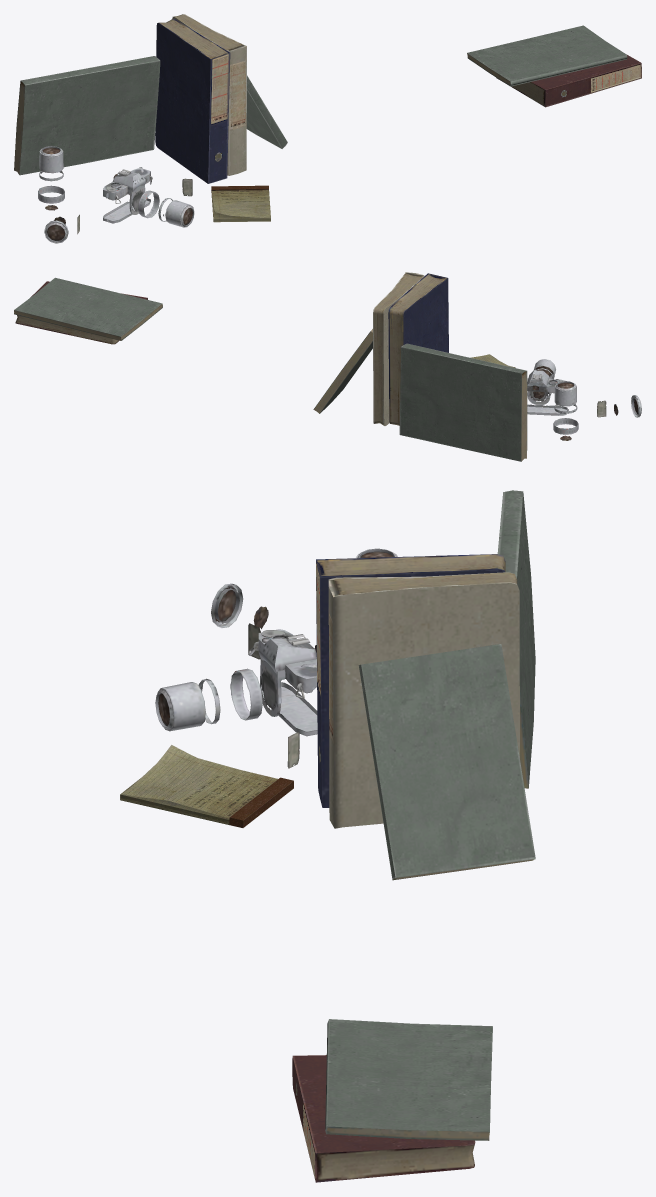
The model's file is sm39_025_reflexcameraset01a.fbx.
The picture shows the model from 3 angles, top to bottom: view 1: azimuth 30°, elevation 25°; view 2: azimuth 150°, elevation 25°; view 3: azimuth 270°, elevation 25°; orthographic projection. The views are drawn at different scales.
Visible parts, largest first — view 1: LOD_1_Group_3_Sub_1__sm36_007_PaperWork01A_A_Mat1, LOD_1_Group_4_Sub_1__sm36_007_PaperWork01A_A_Mat1, LOD_1_Group_8_Sub_2__sm36_007_PaperWork01A_A_Mat1, LOD_1_Group_7_Sub_2__sm36_007_PaperWork01A_A_Mat1, LOD_1_Group_9_Sub_1__sm36_007_PaperWork01A_A_Mat1, LOD_1_Group_0_Sub_1__sm36_013_Notepad01A_A_Mat, LOD_1_Group_5_Sub_1__sm39_025_ReflexCameraSet01A_A_Mat, LOD_1_Group_6_Sub_2__sm36_007_PaperWork01A_A_Mat1, LOD_1_Group_16_Sub_1__sm39_025_ReflexCameraSet01A_A_Mat, LOD_1_Group_6_Sub_1__sm39_025_ReflexCameraSet01A_A_Mat, LOD_1_Group_14_Sub_1__sm39_025_ReflexCameraSet01A_A_Mat; view 2: LOD_1_Group_3_Sub_1__sm36_007_PaperWork01A_A_Mat1, LOD_1_Group_8_Sub_2__sm36_007_PaperWork01A_A_Mat1, LOD_1_Group_4_Sub_1__sm36_007_PaperWork01A_A_Mat1, LOD_1_Group_7_Sub_2__sm36_007_PaperWork01A_A_Mat1, LOD_1_Group_5_Sub_1__sm39_025_ReflexCameraSet01A_A_Mat, LOD_1_Group_6_Sub_2__sm36_007_PaperWork01A_A_Mat1, LOD_1_Group_16_Sub_1__sm39_025_ReflexCameraSet01A_A_Mat, LOD_1_Group_9_Sub_1__sm36_007_PaperWork01A_A_Mat1, LOD_1_Group_6_Sub_1__sm39_025_ReflexCameraSet01A_A_Mat; view 3: LOD_1_Group_6_Sub_2__sm36_007_PaperWork01A_A_Mat1, LOD_1_Group_7_Sub_2__sm36_007_PaperWork01A_A_Mat1, LOD_1_Group_8_Sub_2__sm36_007_PaperWork01A_A_Mat1, LOD_1_Group_9_Sub_1__sm36_007_PaperWork01A_A_Mat1, LOD_1_Group_0_Sub_1__sm36_013_Notepad01A_A_Mat, LOD_1_Group_4_Sub_1__sm36_007_PaperWork01A_A_Mat1, LOD_1_Group_3_Sub_1__sm36_007_PaperWork01A_A_Mat1, LOD_1_Group_5_Sub_1__sm39_025_ReflexCameraSet01A_A_Mat, LOD_1_Group_6_Sub_1__sm39_025_ReflexCameraSet01A_A_Mat, LOD_1_Group_14_Sub_1__sm39_025_ReflexCameraSet01A_A_Mat.
Boxes of the visible parts, x1,y1,x2,y2 form: LOD_1_Group_3_Sub_1__sm36_007_PaperWork01A_A_Mat1: (14,56,160,175); LOD_1_Group_4_Sub_1__sm36_007_PaperWork01A_A_Mat1: (155,19,230,183); LOD_1_Group_8_Sub_2__sm36_007_PaperWork01A_A_Mat1: (467,25,627,86); LOD_1_Group_7_Sub_2__sm36_007_PaperWork01A_A_Mat1: (172,14,246,175); LOD_1_Group_9_Sub_1__sm36_007_PaperWork01A_A_Mat1: (496,55,641,107); LOD_1_Group_0_Sub_1__sm36_013_Notepad01A_A_Mat: (211,185,270,222); LOD_1_Group_5_Sub_1__sm39_025_ReflexCameraSet01A_A_Mat: (103,167,152,223); LOD_1_Group_6_Sub_2__sm36_007_PaperWork01A_A_Mat1: (246,75,287,148); LOD_1_Group_16_Sub_1__sm39_025_ReflexCameraSet01A_A_Mat: (38,146,64,210); LOD_1_Group_6_Sub_1__sm39_025_ReflexCameraSet01A_A_Mat: (138,190,194,227); LOD_1_Group_14_Sub_1__sm39_025_ReflexCameraSet01A_A_Mat: (44,216,68,243); LOD_1_Group_3_Sub_1__sm36_007_PaperWork01A_A_Mat1: (399,343,527,461); LOD_1_Group_8_Sub_2__sm36_007_PaperWork01A_A_Mat1: (14,277,162,340); LOD_1_Group_4_Sub_1__sm36_007_PaperWork01A_A_Mat1: (388,273,448,425); LOD_1_Group_7_Sub_2__sm36_007_PaperWork01A_A_Mat1: (373,272,424,425); LOD_1_Group_5_Sub_1__sm39_025_ReflexCameraSet01A_A_Mat: (527,370,568,415); LOD_1_Group_6_Sub_2__sm36_007_PaperWork01A_A_Mat1: (313,329,372,413); LOD_1_Group_16_Sub_1__sm39_025_ReflexCameraSet01A_A_Mat: (553,381,578,440); LOD_1_Group_9_Sub_1__sm36_007_PaperWork01A_A_Mat1: (15,281,147,344); LOD_1_Group_6_Sub_1__sm39_025_ReflexCameraSet01A_A_Mat: (533,359,555,399); LOD_1_Group_6_Sub_2__sm36_007_PaperWork01A_A_Mat1: (358,644,535,880); LOD_1_Group_7_Sub_2__sm36_007_PaperWork01A_A_Mat1: (328,572,519,828); LOD_1_Group_8_Sub_2__sm36_007_PaperWork01A_A_Mat1: (325,1019,492,1140); LOD_1_Group_9_Sub_1__sm36_007_PaperWork01A_A_Mat1: (292,1055,475,1182); LOD_1_Group_0_Sub_1__sm36_013_Notepad01A_A_Mat: (120,745,293,827); LOD_1_Group_4_Sub_1__sm36_007_PaperWork01A_A_Mat1: (316,554,505,807); LOD_1_Group_3_Sub_1__sm36_007_PaperWork01A_A_Mat1: (497,490,535,788); LOD_1_Group_5_Sub_1__sm39_025_ReflexCameraSet01A_A_Mat: (248,629,317,736); LOD_1_Group_6_Sub_1__sm39_025_ReflexCameraSet01A_A_Mat: (155,668,262,731); LOD_1_Group_14_Sub_1__sm39_025_ReflexCameraSet01A_A_Mat: (211,583,268,629).
Size of the model in its own units: 1.66 by 0.3311 by 0.5197.
